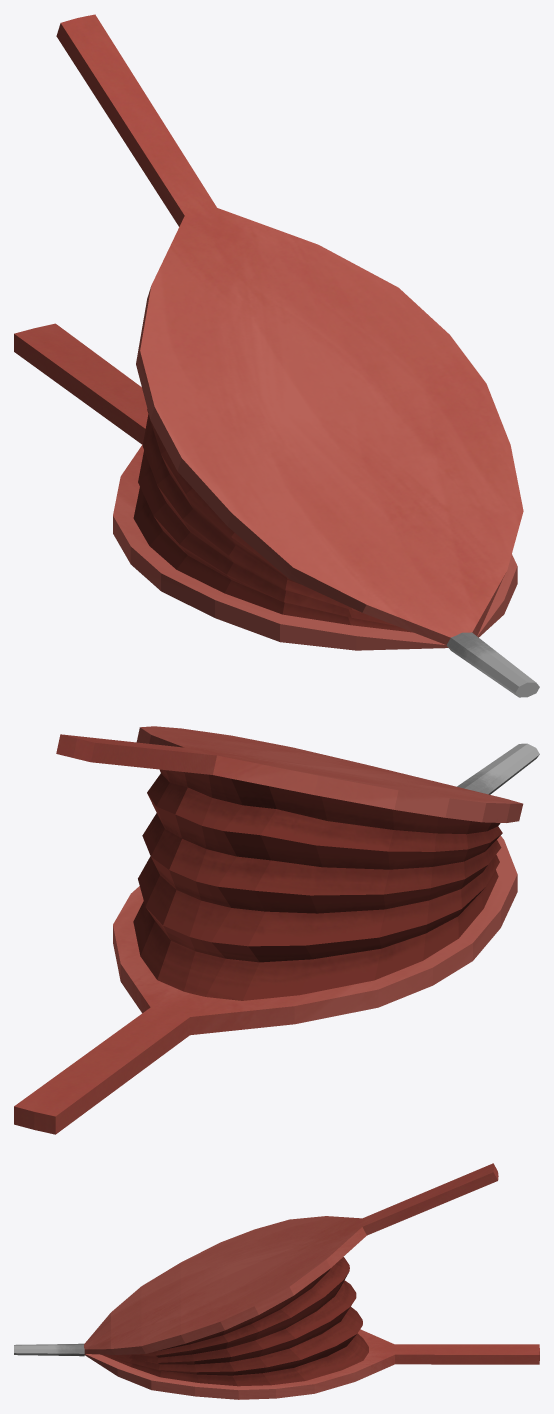
File: bellows.fbx
The picture shows the model from 3 angles, top to bottom: view 1: azimuth 30°, elevation 25°; view 2: azimuth 150°, elevation 25°; view 3: azimuth 270°, elevation 25°; orthographic projection. The views are drawn at different scales.
Parts seen in each view (by area): view 1: Top, bottom, Accordion, Point; view 2: Accordion, bottom, Top, Point; view 3: Top, Accordion, bottom, Point.
Part boxes in pixels (x1,y1,x2,y2): Top: (56, 14, 523, 644); bottom: (14, 323, 517, 650); Accordion: (133, 409, 413, 632); Point: (446, 632, 539, 697); Accordion: (133, 769, 502, 1000); bottom: (14, 835, 517, 1134); Top: (56, 726, 523, 822); Point: (457, 743, 539, 794); Top: (84, 1163, 498, 1354); Accordion: (101, 1257, 368, 1386); bottom: (84, 1329, 539, 1399); Point: (14, 1343, 84, 1356).
Bounding box in the file's own units: 28.74 × 31.7 × 78.76.
